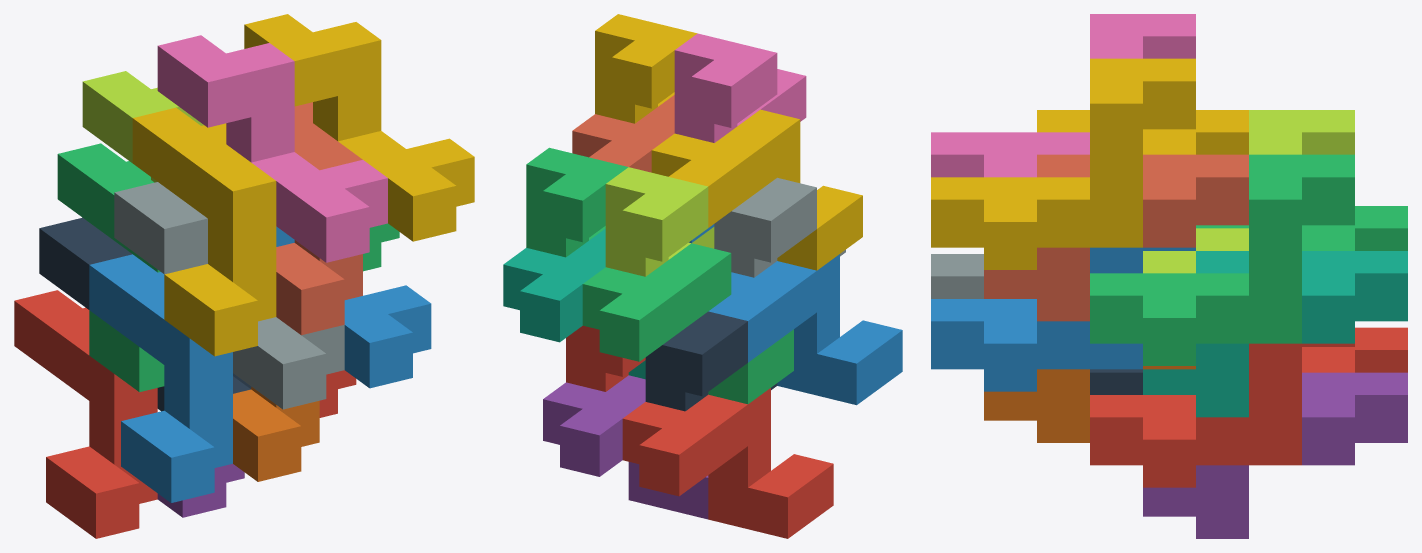
File: tiling.obj
3 views of the same model, side by side, from view 1: azimuth 30°, elevation 25°; view 2: azimuth 150°, elevation 25°; view 3: azimuth 270°, elevation 25° (orthographic). The views are drawn at different scales.
Parts seen in each view (by area): view 1: copy_2_domain_4, copy_1_domain_4, copy_2_domain_8, copy_1_domain_2, copy_1_domain_1, copy_2_domain_2, copy_1_domain_3, copy_1_domain_8, copy_2_domain_6, copy_1_domain_6, copy_2_domain_1, copy_2_domain_3 (+3 smaller); view 2: copy_1_domain_1, copy_1_domain_2, copy_1_domain_3, copy_1_domain_4, copy_2_domain_4, copy_2_domain_3, copy_1_domain_5, copy_2_domain_7, copy_2_domain_8, copy_1_domain_7, copy_2_domain_1, copy_2_domain_2 (+2 smaller); view 3: copy_2_domain_7, copy_2_domain_8, copy_2_domain_5, copy_1_domain_8, copy_1_domain_7, copy_2_domain_6, copy_1_domain_5, copy_2_domain_4, copy_2_domain_3, copy_1_domain_6, copy_1_domain_4, copy_1_domain_3 (+3 smaller).
Boxes of the visible parts, bbox=[...] form: copy_2_domain_4: bbox=[157, 35, 387, 262]; copy_1_domain_4: bbox=[132, 107, 276, 356]; copy_2_domain_8: bbox=[244, 14, 474, 241]; copy_1_domain_2: bbox=[89, 254, 232, 502]; copy_1_domain_1: bbox=[14, 290, 157, 538]; copy_2_domain_2: bbox=[114, 182, 344, 409]; copy_1_domain_3: bbox=[57, 143, 164, 392]; copy_1_domain_8: bbox=[276, 102, 362, 335]; copy_2_domain_6: bbox=[276, 226, 431, 388]; copy_1_domain_6: bbox=[233, 387, 319, 481]; copy_2_domain_1: bbox=[39, 217, 251, 411]; copy_2_domain_3: bbox=[82, 71, 203, 182]; copy_1_domain_1: bbox=[622, 388, 833, 538]; copy_1_domain_2: bbox=[708, 254, 902, 405]; copy_1_domain_3: bbox=[582, 243, 793, 404]; copy_1_domain_4: bbox=[651, 109, 862, 270]; copy_2_domain_4: bbox=[674, 33, 806, 142]; copy_2_domain_3: bbox=[605, 167, 714, 276]; copy_1_domain_5: bbox=[543, 375, 708, 519]; copy_2_domain_7: bbox=[526, 147, 628, 257]; copy_2_domain_8: bbox=[595, 14, 697, 123]; copy_1_domain_7: bbox=[503, 228, 645, 379]; copy_2_domain_1: bbox=[645, 311, 777, 411]; copy_2_domain_2: bbox=[714, 177, 845, 277]; copy_2_domain_7: bbox=[1090, 154, 1354, 365]; copy_2_domain_8: bbox=[931, 58, 1195, 269]; copy_2_domain_5: bbox=[1090, 343, 1354, 487]; copy_1_domain_8: bbox=[984, 154, 1248, 321]; copy_1_domain_7: bbox=[1143, 251, 1407, 417]; copy_2_domain_6: bbox=[931, 247, 1195, 391]; copy_1_domain_5: bbox=[1143, 372, 1407, 538]; copy_2_domain_4: bbox=[931, 14, 1195, 177]; copy_2_domain_3: bbox=[1143, 110, 1354, 273]; copy_1_domain_6: bbox=[984, 366, 1195, 442]; copy_1_domain_4: bbox=[1037, 110, 1248, 154]; copy_1_domain_3: bbox=[1196, 206, 1407, 250].
Size of the model in its own units: 7 by 10 by 9.
